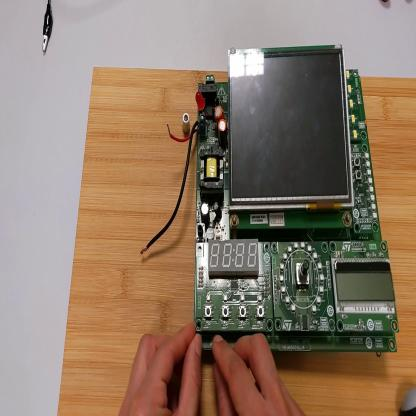hand: (212, 331, 305, 416), (121, 321, 203, 416)
low voltage board: (141, 44, 400, 354)
screwdriver-: (400, 388, 415, 412)
working area: (62, 67, 416, 416)
